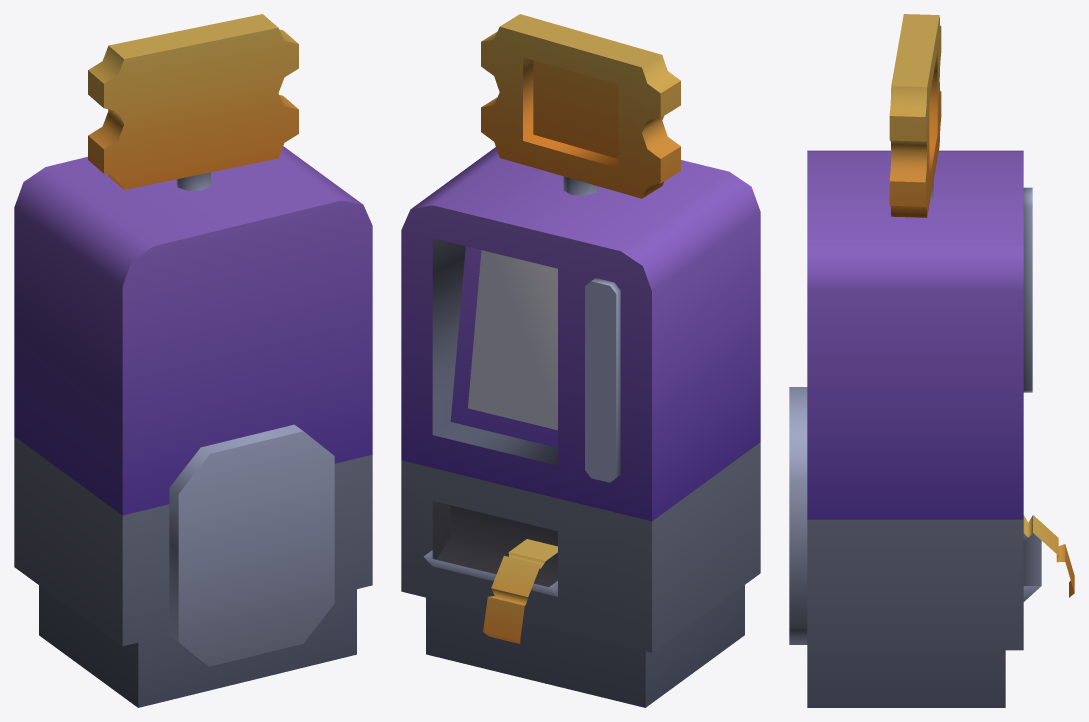
File: ticket_machine.fbx
The picture shows the model from 3 angles, left to right: view 1: azimuth 30°, elevation 25°; view 2: azimuth 150°, elevation 25°; view 3: azimuth 270°, elevation 25°; orthographic projection.
Parts seen in each view (by area): view 1: ticket-machine; view 2: ticket-machine; view 3: ticket-machine.
Boxes of the visible parts, x1,y1,x2,y2 form: ticket-machine: [14, 14, 372, 707]; ticket-machine: [401, 14, 760, 707]; ticket-machine: [789, 14, 1074, 707].
Bounding box in the file's own units: 0.4324 × 1 × 0.4279.
